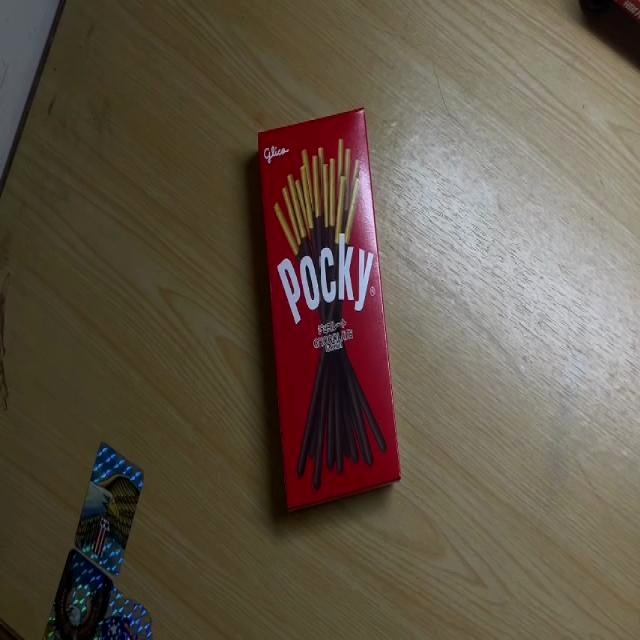Pocky: (259, 105, 402, 514)
